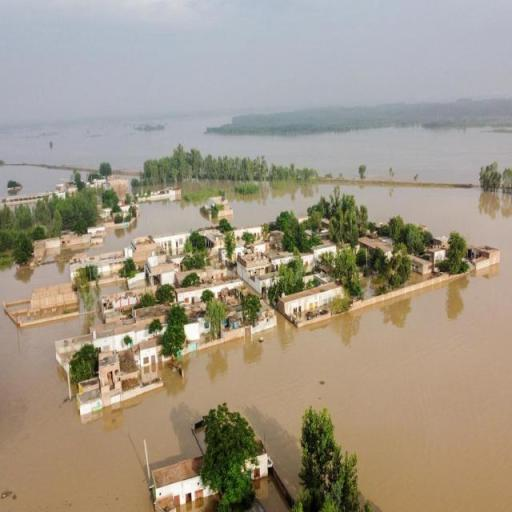flood: (0, 186, 512, 512), (0, 118, 512, 182), (90, 202, 209, 253), (216, 185, 334, 225), (0, 167, 70, 196)
house: (152, 457, 218, 511), (274, 279, 342, 326), (357, 230, 399, 271), (98, 350, 123, 399), (156, 230, 190, 260), (237, 252, 270, 280), (244, 452, 270, 486), (473, 244, 501, 270), (173, 282, 199, 308), (204, 195, 234, 216), (408, 254, 433, 277), (150, 262, 176, 284), (138, 342, 160, 367), (108, 175, 130, 195), (202, 230, 225, 248), (430, 238, 447, 248)
